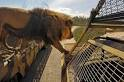lion: (1, 5, 78, 63)
